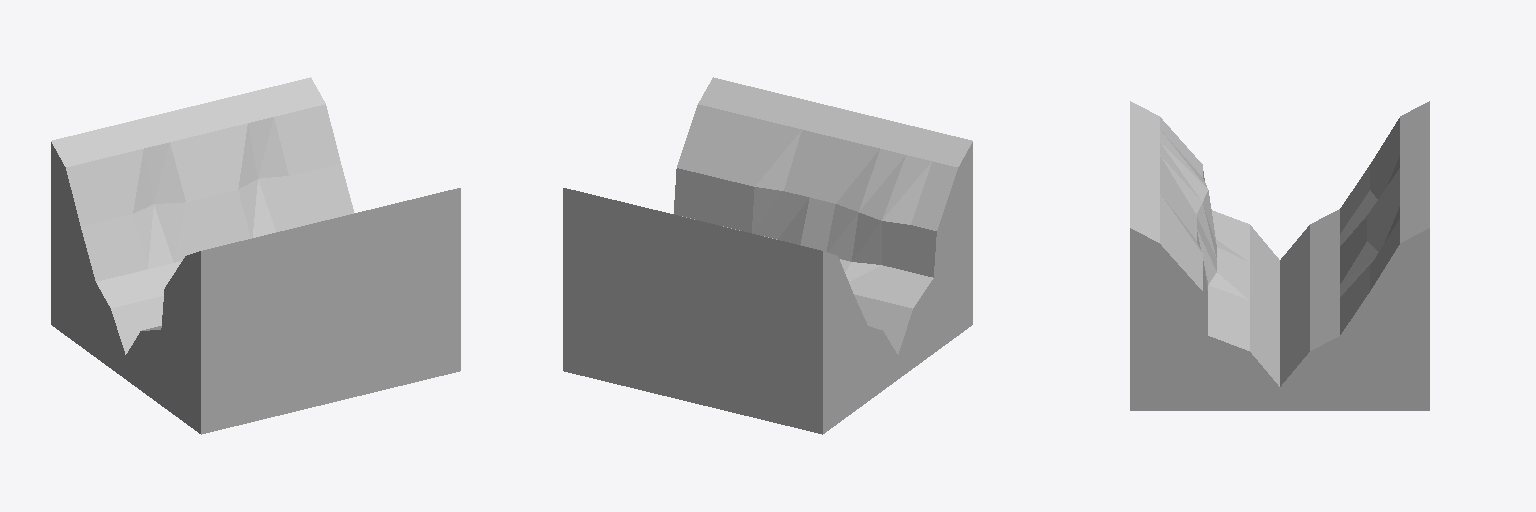
The model's file is valley.obj.
3 renders of one model, left to right at view 1: azimuth 30°, elevation 25°; view 2: azimuth 150°, elevation 25°; view 3: azimuth 270°, elevation 25°, orthographic.
Visible parts, largest first — view 1: Box001; view 2: Box001; view 3: Box001.
Boxes of the visible parts, box(x1,y1,x2,y2) form: Box001: box(51, 77, 460, 434); Box001: box(563, 77, 972, 434); Box001: box(1130, 101, 1429, 410).
Bounding box in the file's own units: 100 × 67.46 × 100.